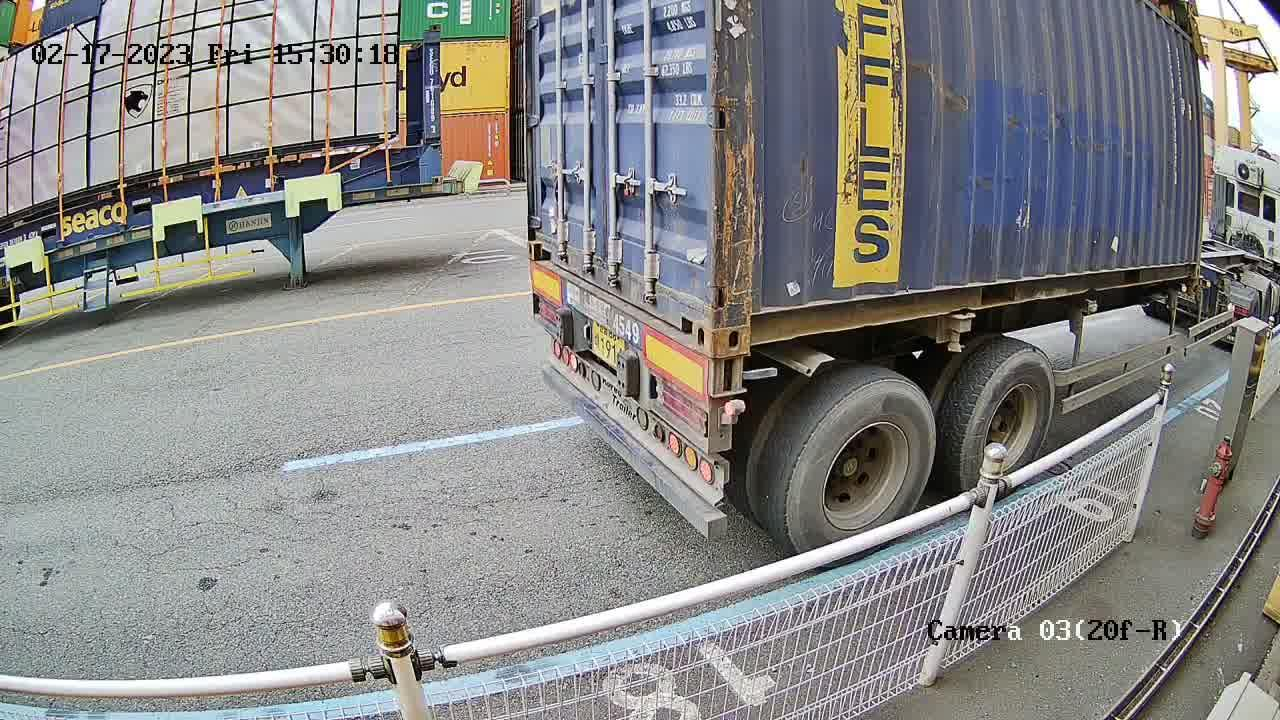Chassis: (531, 264, 743, 394)
Cone: (714, 357, 749, 393)
Hole_L: (713, 284, 782, 360), (527, 223, 564, 269)
Hole_R: (665, 273, 714, 359)
Tire: (780, 382, 935, 568), (960, 351, 1057, 499)
